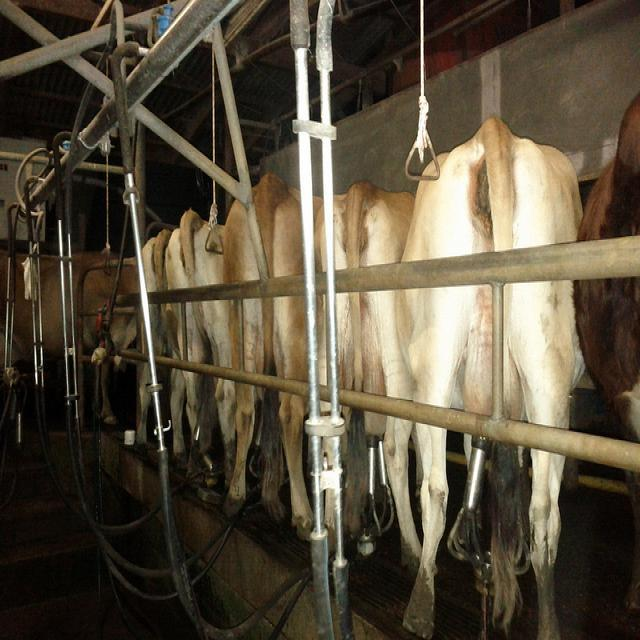cow: (396, 111, 582, 628), (313, 177, 422, 576), (221, 173, 313, 543), (576, 95, 639, 627), (164, 209, 235, 488), (0, 245, 122, 372), (135, 225, 185, 464), (80, 255, 140, 421)
